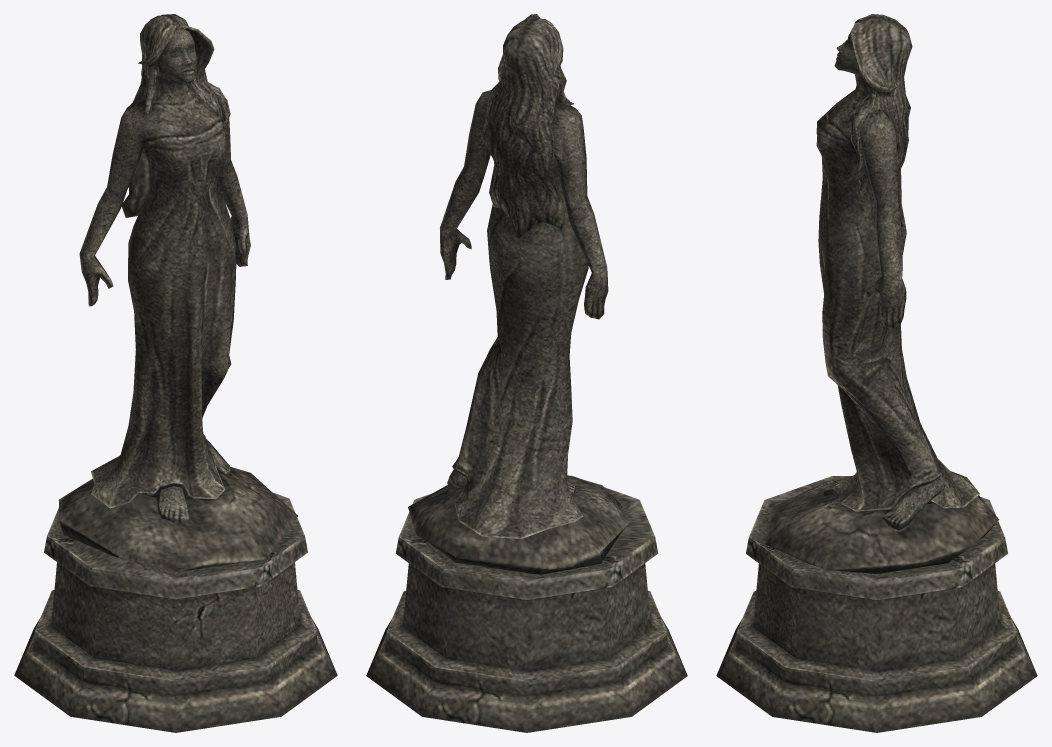
Rendered from Nymph.dae.
3 views of the same model, side by side, from view 1: azimuth 30°, elevation 25°; view 2: azimuth 150°, elevation 25°; view 3: azimuth 270°, elevation 25° (orthographic).
Parts seen in each view (by area): view 1: Nymph_Statue; view 2: Nymph_Statue; view 3: Nymph_Statue.
Boxes of the visible parts, x1=… form: Nymph_Statue: x1=14, y1=14, x2=337, y2=732; Nymph_Statue: x1=366, y1=14, x2=687, y2=732; Nymph_Statue: x1=716, y1=14, x2=1037, y2=732.
Bounding box in the file's own units: 0.9799 × 2.2 × 0.9952.
1 material, 1 textured.
